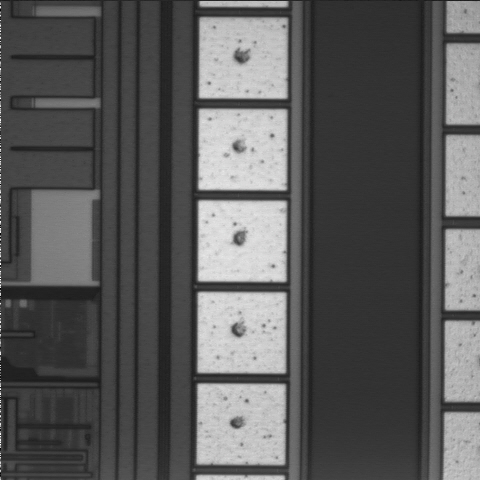pad: (199, 109, 287, 190), (198, 292, 286, 373), (199, 18, 287, 98), (198, 201, 286, 281), (197, 384, 285, 464)
